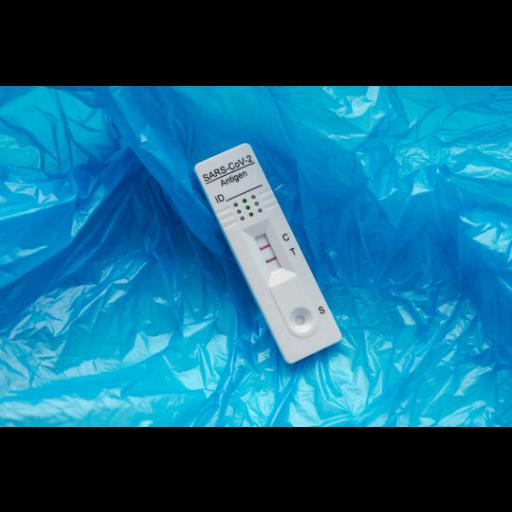Pos: (194, 141, 344, 364)
